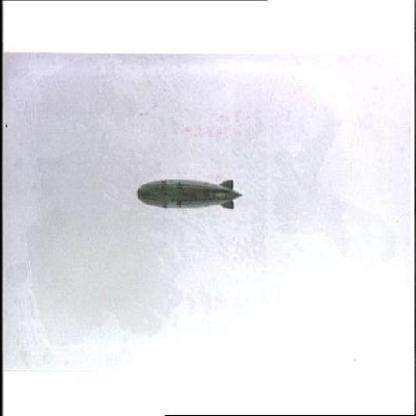Airship: (133, 172, 245, 218)
